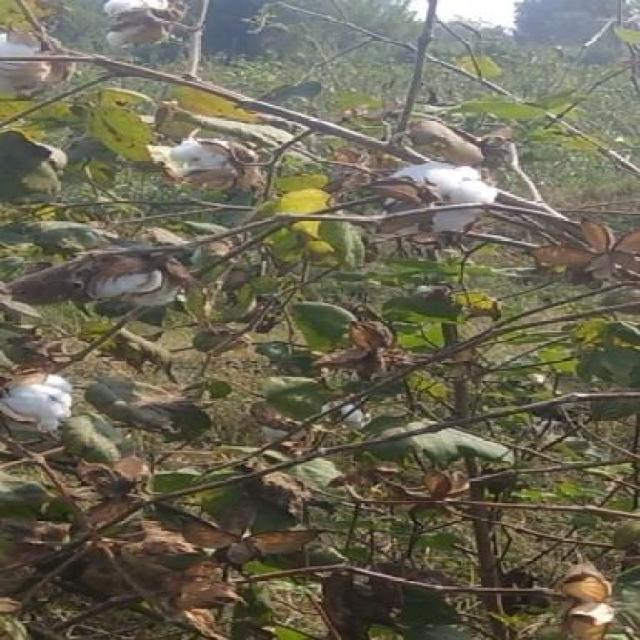cotton_ready: (380, 157, 514, 225), (1, 368, 82, 432)
